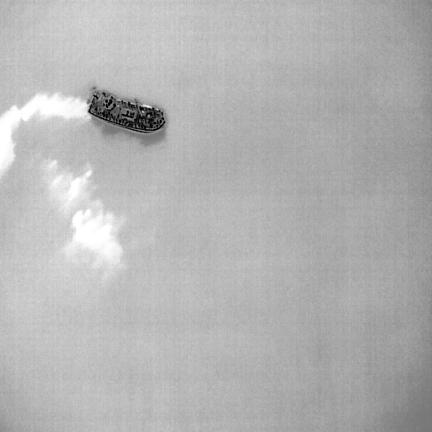flukeprints: (66, 208, 122, 267)
